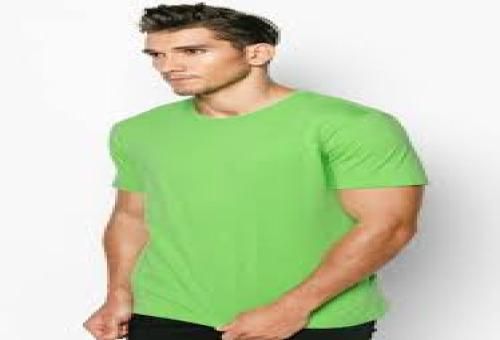person: (76, 90, 429, 332)
